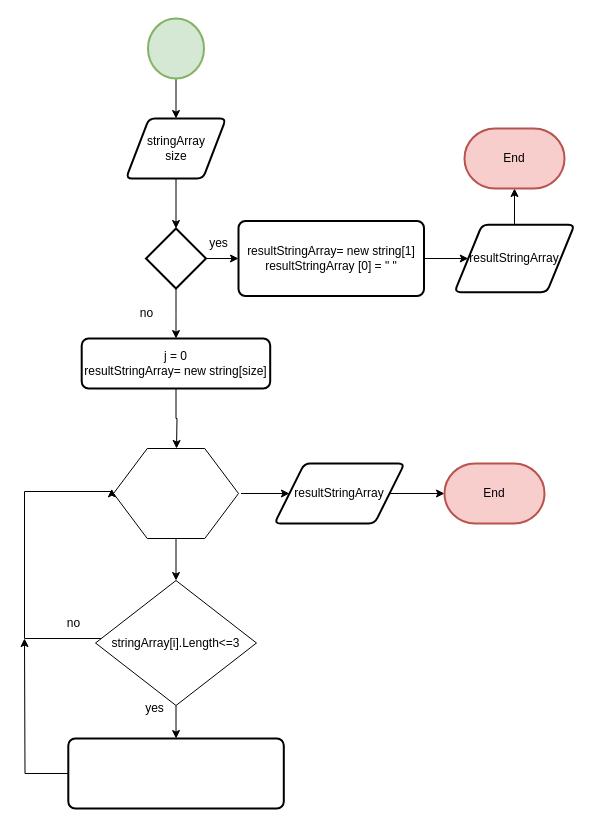
The diagram is 593 pixels wide and 826 high, and some of its shapes have lost their labels. Each missing label, with the box of its shape:
I=0, i<stringArray.Length i= i+1: (112, 448, 238, 538)
resultStringArray[j]=stringArray[i] j=j+1: (67, 737, 284, 809)
size==0: (144, 227, 206, 289)
Start: (146, 17, 204, 79)
